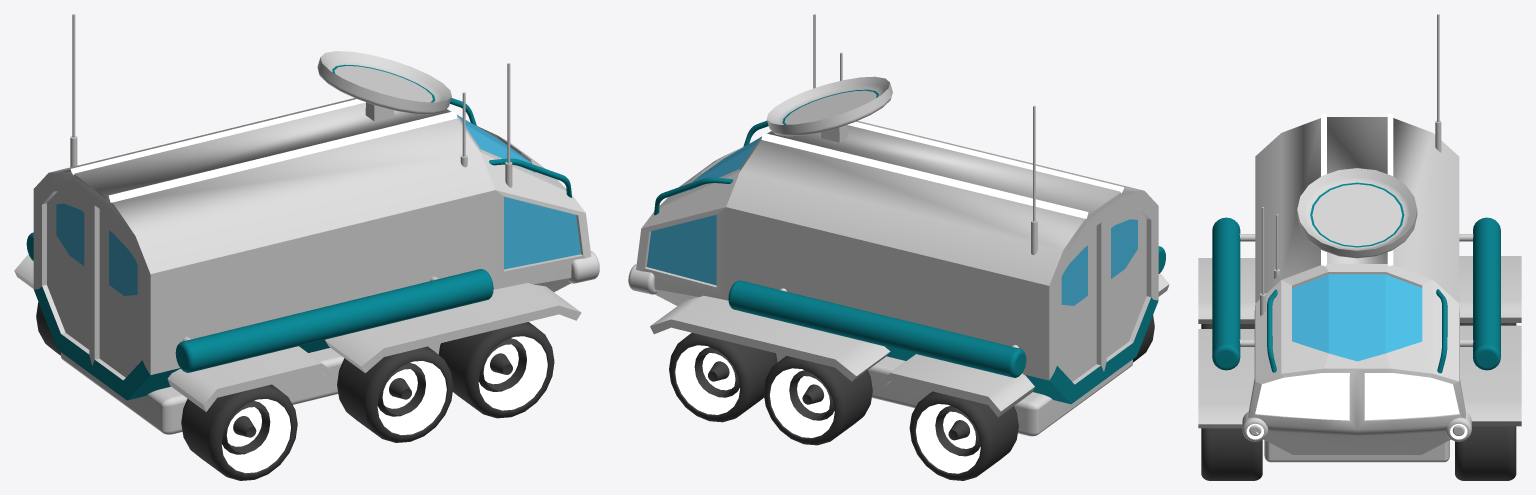
Rendered from Rovercraft.fbx.
3 views of the same model, side by side, from view 1: azimuth 30°, elevation 25°; view 2: azimuth 150°, elevation 25°; view 3: azimuth 270°, elevation 25° (orthographic). The views are drawn at different scales.
Visible parts, largest first — view 1: Lunar Cruise; view 2: Lunar Cruise; view 3: Lunar Cruise.
Boxes of the visible parts, box(x1,y1,x2,y2) form: Lunar Cruise: box(14, 14, 599, 480); Lunar Cruise: box(628, 14, 1169, 480); Lunar Cruise: box(1198, 14, 1521, 480).
Size of the model in its own units: 764 by 612 by 538.
